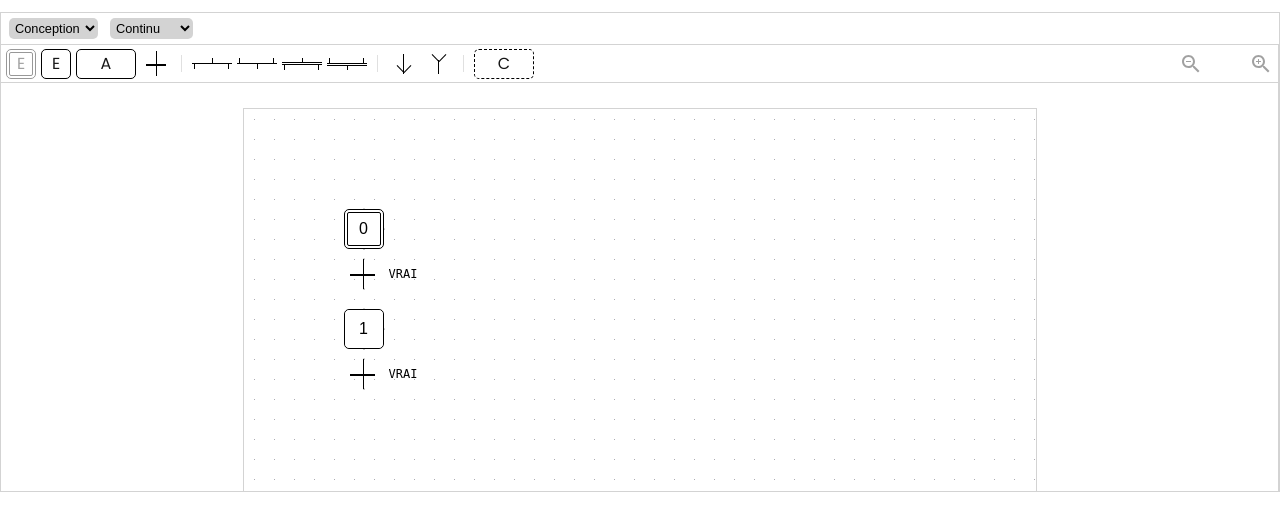
it: EmbeddedApp › controls › switches to the simulation, then offers its controls
Select "Simulation" in the 1st dropdown at (54, 28), box [9, 18, 98, 39]
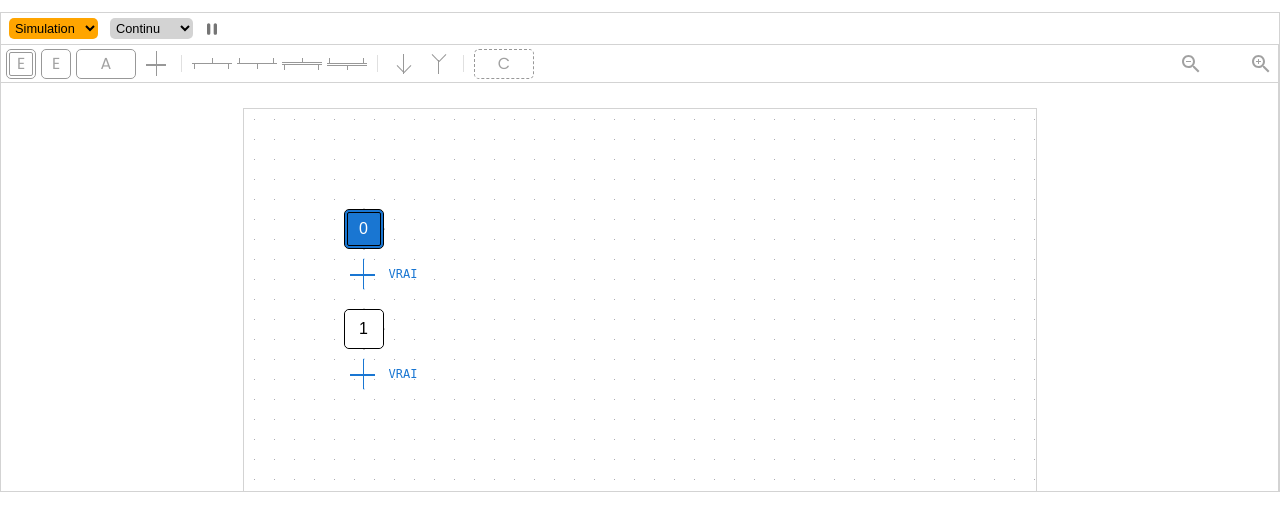
Expected: the button named "Mettre en pause" is shown, [197, 14, 227, 44]
